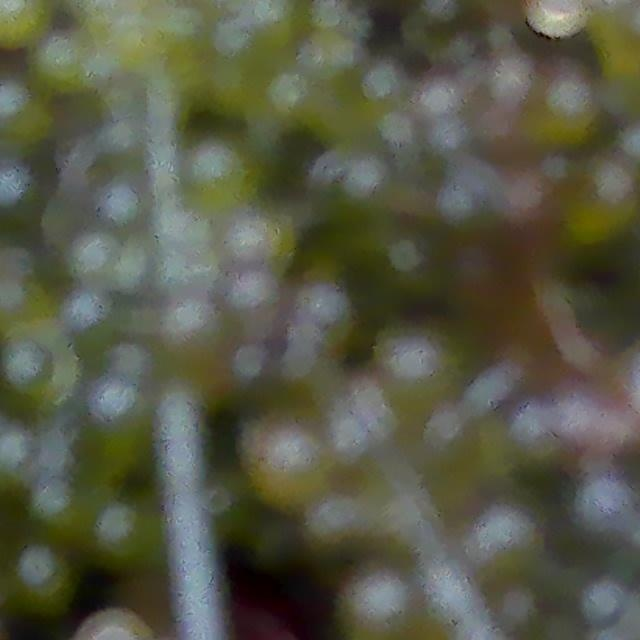SeaGrape: (339, 565, 415, 640), (15, 546, 67, 604), (529, 0, 585, 36)
